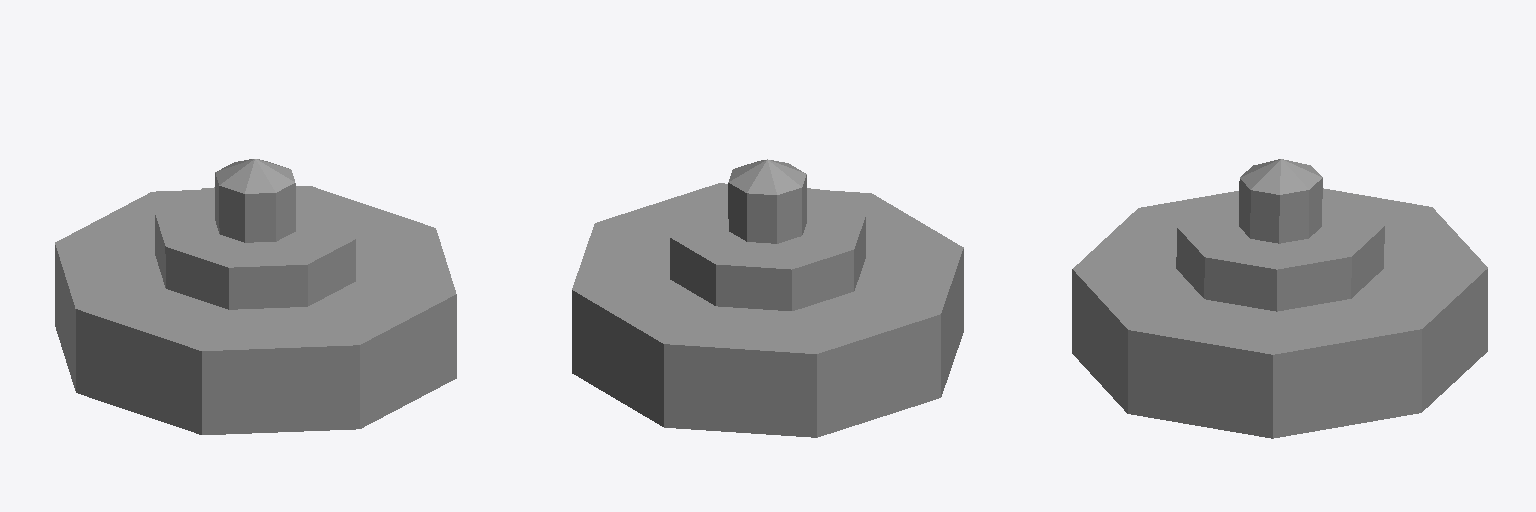
Rendered from LandMine.obj.
3 renders of one model, left to right at view 1: azimuth 30°, elevation 25°; view 2: azimuth 150°, elevation 25°; view 3: azimuth 270°, elevation 25°, orthographic.
Visible parts, largest first — view 1: Mesh.536_DrawCall_345; view 2: Mesh.536_DrawCall_345; view 3: Mesh.536_DrawCall_345.
Part boxes in pixels (x1,y1,x2,y2): Mesh.536_DrawCall_345: (55, 159, 456, 434); Mesh.536_DrawCall_345: (572, 159, 963, 437); Mesh.536_DrawCall_345: (1072, 159, 1487, 438).
Size of the model in its own units: 8.99 by 4.72 by 9.17.